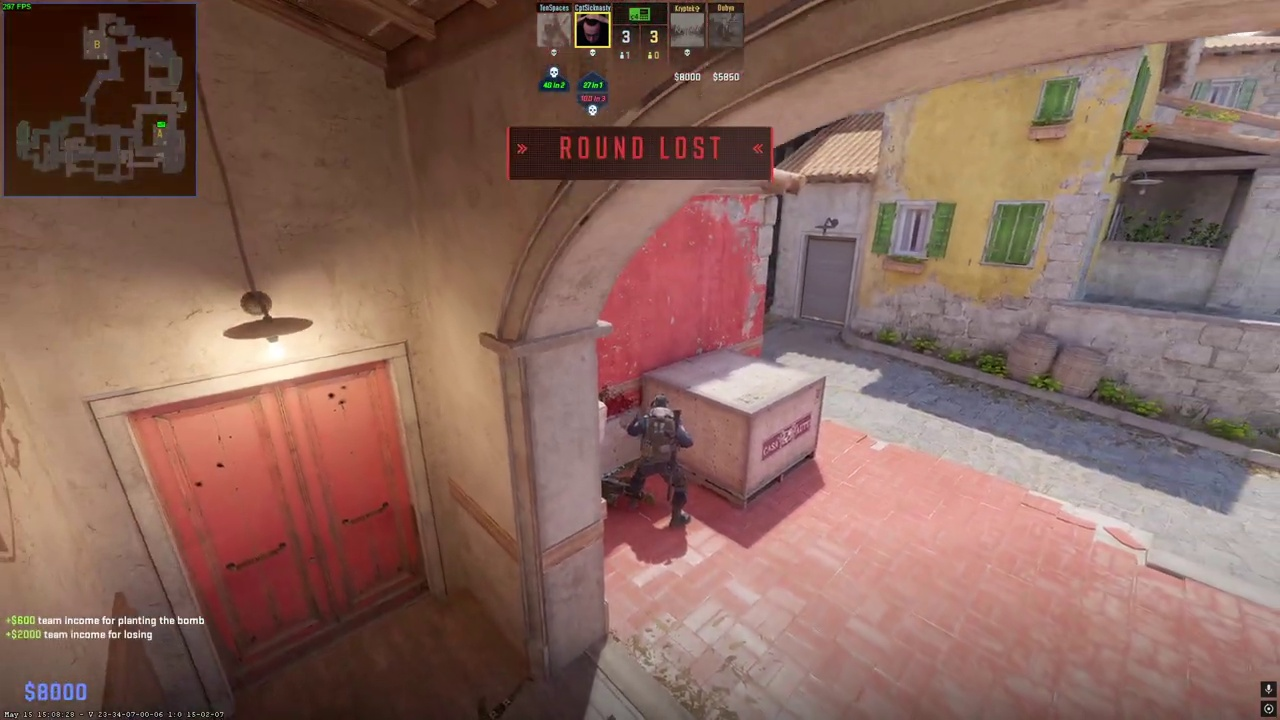CT: (631, 395, 691, 528)
